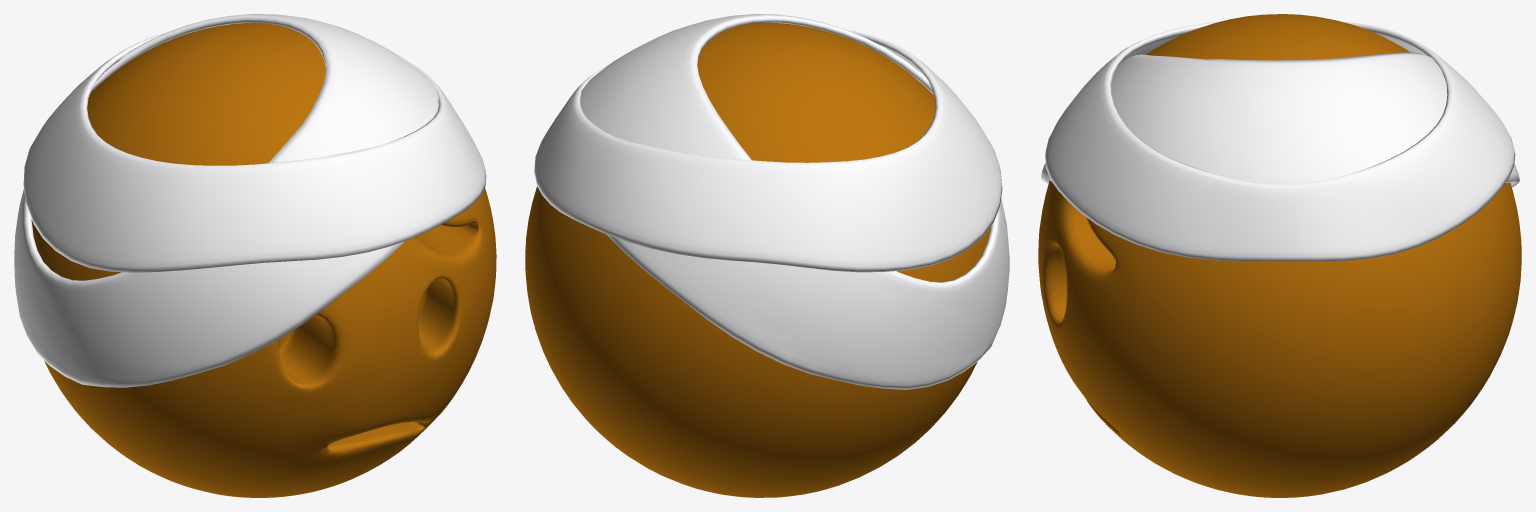
Rendered from bandage.FBX.
The picture shows the model from 3 angles, left to right: view 1: azimuth 30°, elevation 25°; view 2: azimuth 150°, elevation 25°; view 3: azimuth 270°, elevation 25°; orthographic projection.
Parts seen in each view (by area): view 1: Group50555, Group15994, Group29873; view 2: Group50555, Group15994, Group29873; view 3: Group50555, Group15994, Group29873.
Part boxes in pixels (x1,y1,x2,y2): Group50555: (31, 22, 496, 497); Group15994: (23, 33, 486, 272); Group29873: (14, 14, 438, 387); Group50555: (525, 22, 990, 497); Group15994: (534, 30, 1002, 272); Group29873: (580, 14, 1009, 389); Group50555: (1038, 14, 1521, 497); Group15994: (1045, 21, 1515, 261); Group29873: (1041, 52, 1519, 187).
Size of the model in its own units: 22.55 by 22.29 by 22.22.
